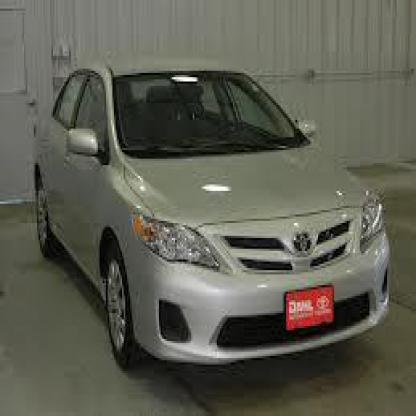Vehicle: (34, 60, 394, 373)
